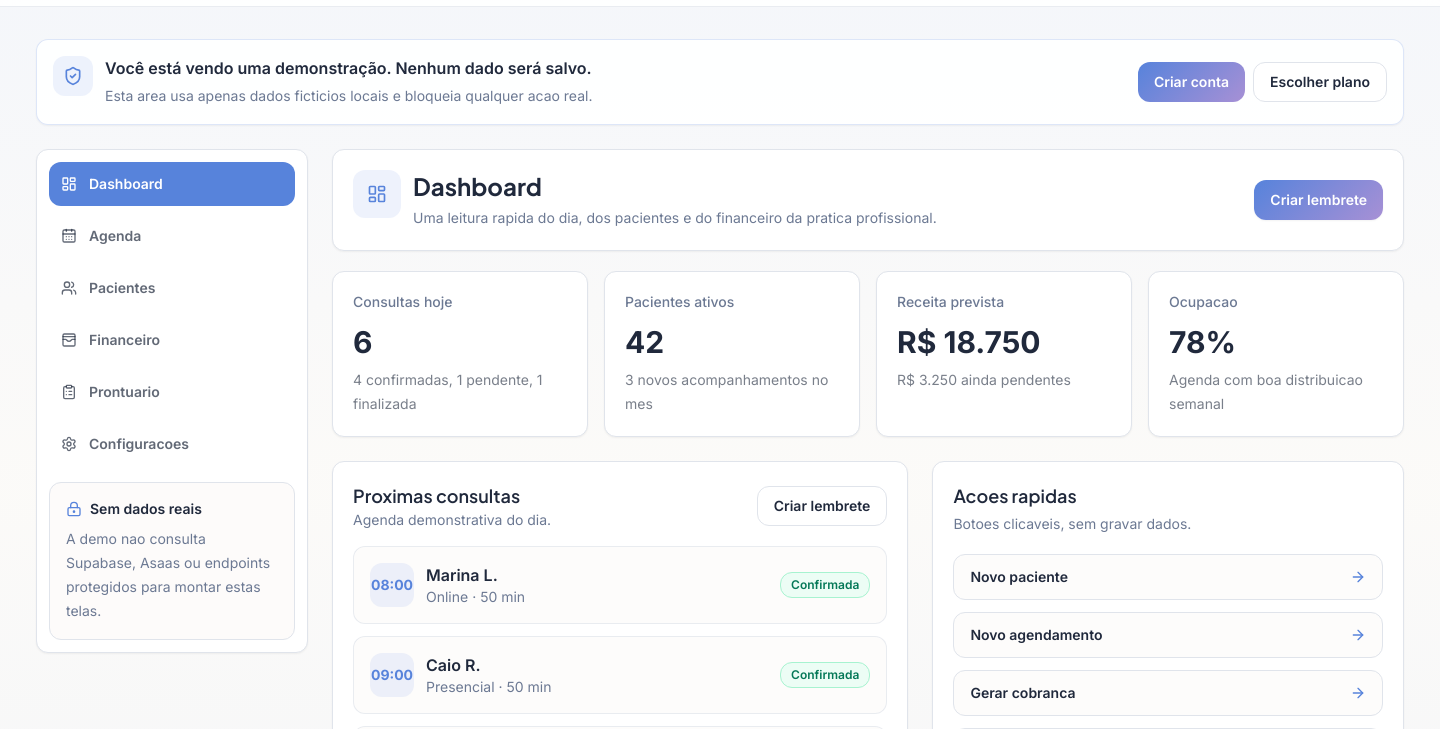
Test case: PublicDemoPage › navigates between demo areas without requiring login
The width and height of the screenshot is (1440, 729).
What coordinates should you click on to do the following:
click the button "Agenda"
I would click on:
 (172, 236)
Its box is [49,214,295,258].
(page scrolled)
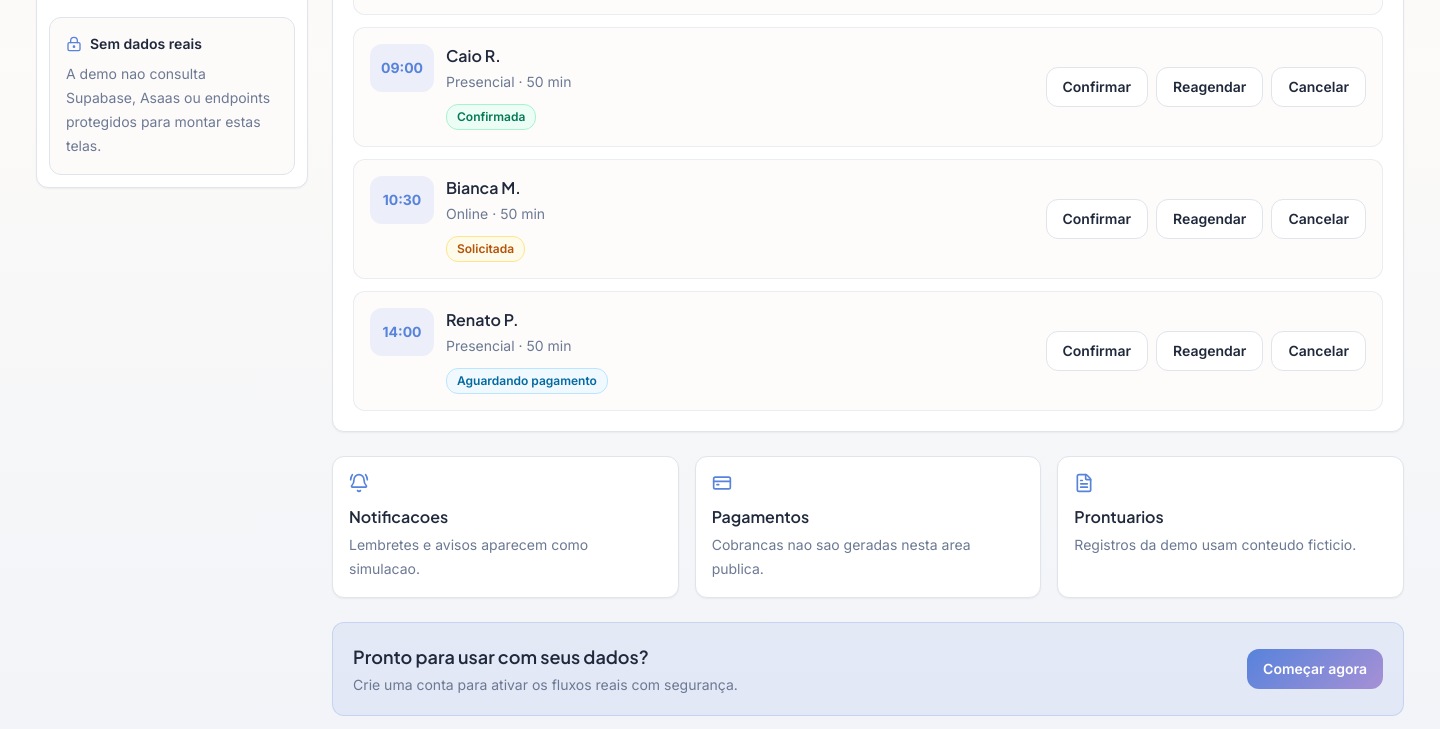
Check: the text "Aguardando pagamento" is shown, box [446,368,608,394]
